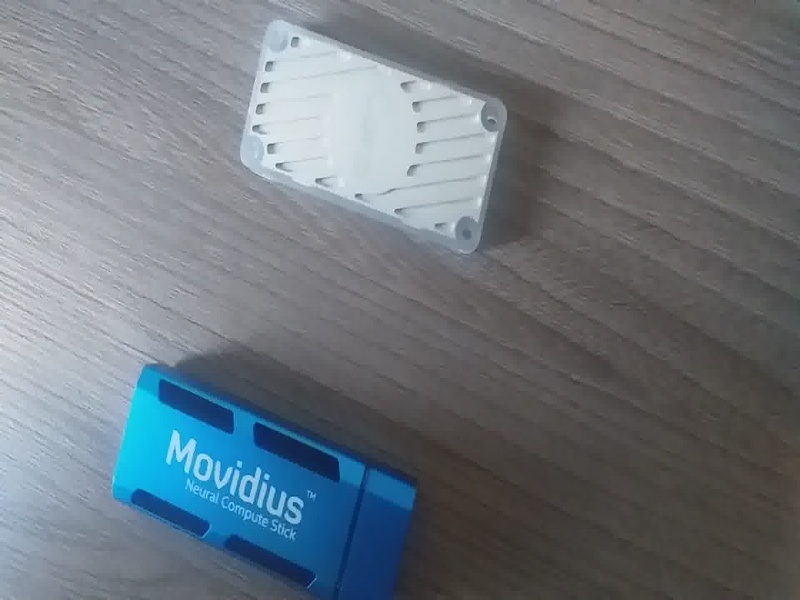coral: (234, 12, 519, 270)
movidius: (101, 361, 422, 600)
